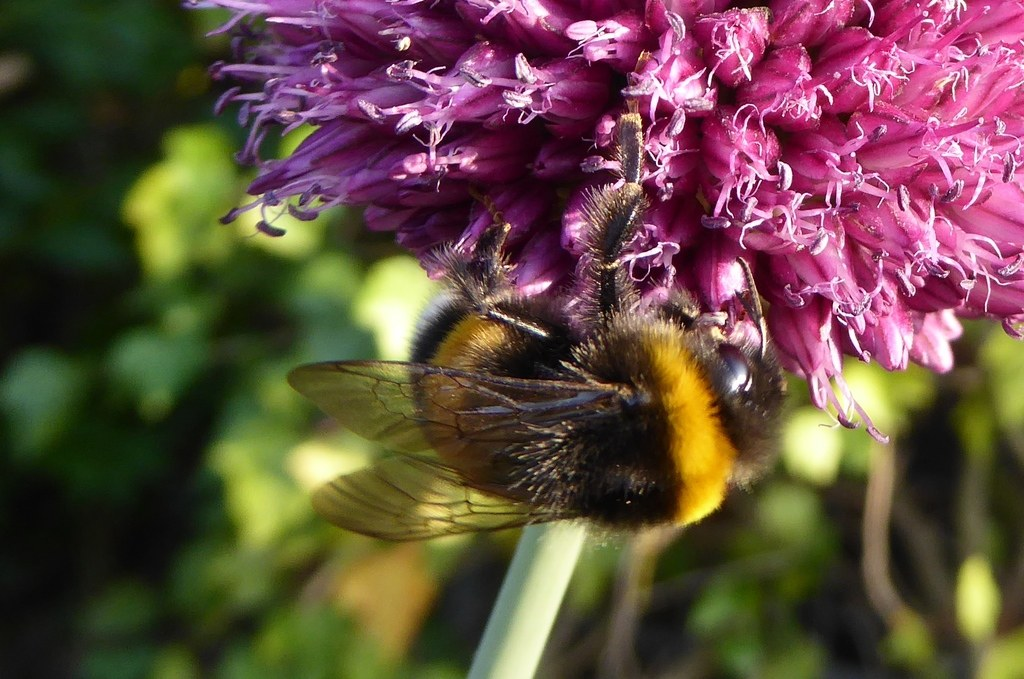bee: (287, 246, 796, 580)
insect: (185, 0, 1023, 445)
